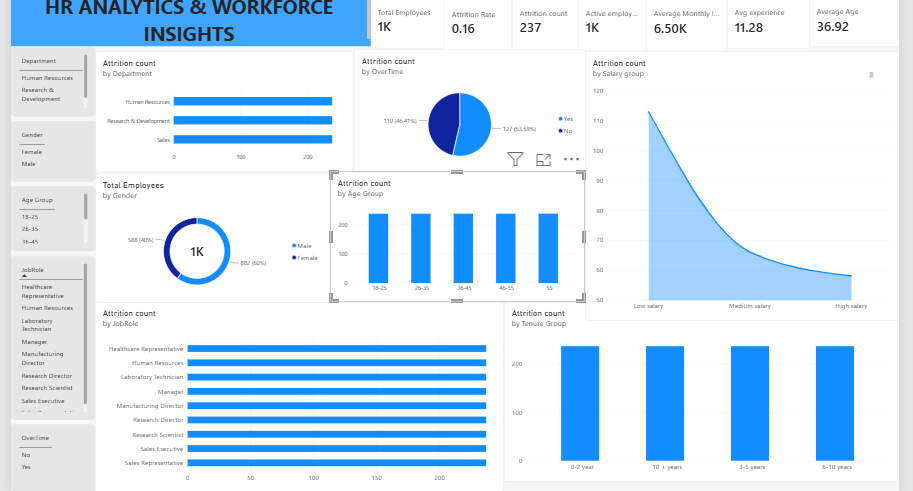

This screenshot's page, from the dashboard's own definition file:
{"tool":"powerbi","page":{"name":"Page 1","canvas":[1920,1080],"ordinal":0},"visuals":[{"type":"cardVisual","fields":{"Data":["FactEmployee.Total Employees"]},"box":[776,0,160,120],"z":0},{"type":"cardVisual","fields":{"Data":["DimAgeGroup.Attrition count"]},"box":[1082,0,142,124],"z":1000},{"type":"cardVisual","fields":{"Data":["DimAgeGroup.Active employees"]},"box":[1224,0,148,124],"z":2000},{"type":"cardVisual","fields":{"Data":["DimAgeGroup.Attrition Rate"]},"box":[936,4,146,120],"z":3000},{"type":"cardVisual","fields":{"Data":["DimAgeGroup.Average Monthly Income"]},"box":[1372,0,174,126],"z":4000},{"type":"cardVisual","fields":{"Data":["DimAgeGroup.Average Age"]},"box":[1724,0,196,116],"z":5000},{"type":"cardVisual","fields":{"Data":["DimAgeGroup.Avg experience"]},"box":[1546,2,178,118],"z":6000},{"type":"clusteredBarChart","fields":{"Category":["DimDepartment.Department"],"Y":["DimAgeGroup.Attrition count"]},"box":[182,126,558,260],"z":7000},{"type":"clusteredColumnChart","fields":{"Category":["DimAgeGroup.Age Group"],"Y":["DimAgeGroup.Attrition count"]},"box":[690,384,550,284],"z":8000},{"type":"clusteredBarChart","fields":{"Category":["DimJobRole.JobRole"],"Y":["DimAgeGroup.Attrition count"]},"box":[182,666,882,414],"z":9000},{"type":"clusteredColumnChart","fields":{"Category":["DimTenure.Tenure Group"],"Y":["DimAgeGroup.Attrition count"]},"box":[1064,666,856,390],"z":10000},{"type":"donutChart","fields":{"Category":["FactEmployee.Gender"],"Y":["FactEmployee.Total Employees"]},"box":[182,388,508,280],"z":11000},{"type":"tableEx","fields":{"Values":["DimDepartment.Department"]},"box":[0,116.2,182.5,150],"z":12000},{"type":"tableEx","fields":{"Values":["FactEmployee.Gender"]},"box":[0,276.2,182.5,131.2],"z":13000},{"type":"tableEx","fields":{"Values":["DimAgeGroup.Age Group"]},"box":[0,416.2,182.5,141.2],"z":14000},{"type":"tableEx","fields":{"Values":["DimJobRole.JobRole"]},"box":[0,568.8,182,354],"z":15000},{"type":"tableEx","fields":{"Values":["FactEmployee.OverTime"]},"box":[0,932,182,148],"z":16000},{"type":"pieChart","fields":{"Category":["FactEmployee.OverTime"],"Y":["DimAgeGroup.Attrition count"]},"box":[740,120,500,268],"z":16001},{"type":"areaChart","fields":{"Category":["DimSalary.Salary group"],"Y":["DimAgeGroup.Attrition count"]},"box":[1240,125,680,582.5],"z":16002},{"type":"textbox","box":[1546,170,316,12],"z":16004},{"type":"textbox","box":[0,0,776.7,115],"z":16005}]}

Visuals, with their boxes on the page's 1920x1080 design canvas (x1, y1, x2, y2). These are canvas units, not pixel positions in the 913x491 screenshot, which may show the page scaled, cropped or inside an application window:
cardVisual - FactEmployee.Total Employees: <box>776,0,936,120</box>
cardVisual - DimAgeGroup.Attrition count: <box>1082,0,1224,124</box>
cardVisual - DimAgeGroup.Active employees: <box>1224,0,1372,124</box>
cardVisual - DimAgeGroup.Attrition Rate: <box>936,4,1082,124</box>
cardVisual - DimAgeGroup.Average Monthly Income: <box>1372,0,1546,126</box>
cardVisual - DimAgeGroup.Average Age: <box>1724,0,1920,116</box>
cardVisual - DimAgeGroup.Avg experience: <box>1546,2,1724,120</box>
clusteredBarChart - DimDepartment.Department x DimAgeGroup.Attrition count: <box>182,126,740,386</box>
clusteredColumnChart - DimAgeGroup.Age Group x DimAgeGroup.Attrition count: <box>690,384,1240,668</box>
clusteredBarChart - DimJobRole.JobRole x DimAgeGroup.Attrition count: <box>182,666,1064,1080</box>
clusteredColumnChart - DimTenure.Tenure Group x DimAgeGroup.Attrition count: <box>1064,666,1920,1056</box>
donutChart - FactEmployee.Gender x FactEmployee.Total Employees: <box>182,388,690,668</box>
tableEx - DimDepartment.Department: <box>0,116,182,266</box>
tableEx - FactEmployee.Gender: <box>0,276,182,407</box>
tableEx - DimAgeGroup.Age Group: <box>0,416,182,557</box>
tableEx - DimJobRole.JobRole: <box>0,569,182,923</box>
tableEx - FactEmployee.OverTime: <box>0,932,182,1080</box>
pieChart - FactEmployee.OverTime x DimAgeGroup.Attrition count: <box>740,120,1240,388</box>
areaChart - DimSalary.Salary group x DimAgeGroup.Attrition count: <box>1240,125,1920,708</box>
textbox: <box>1546,170,1862,182</box>
textbox: <box>0,0,777,115</box>
